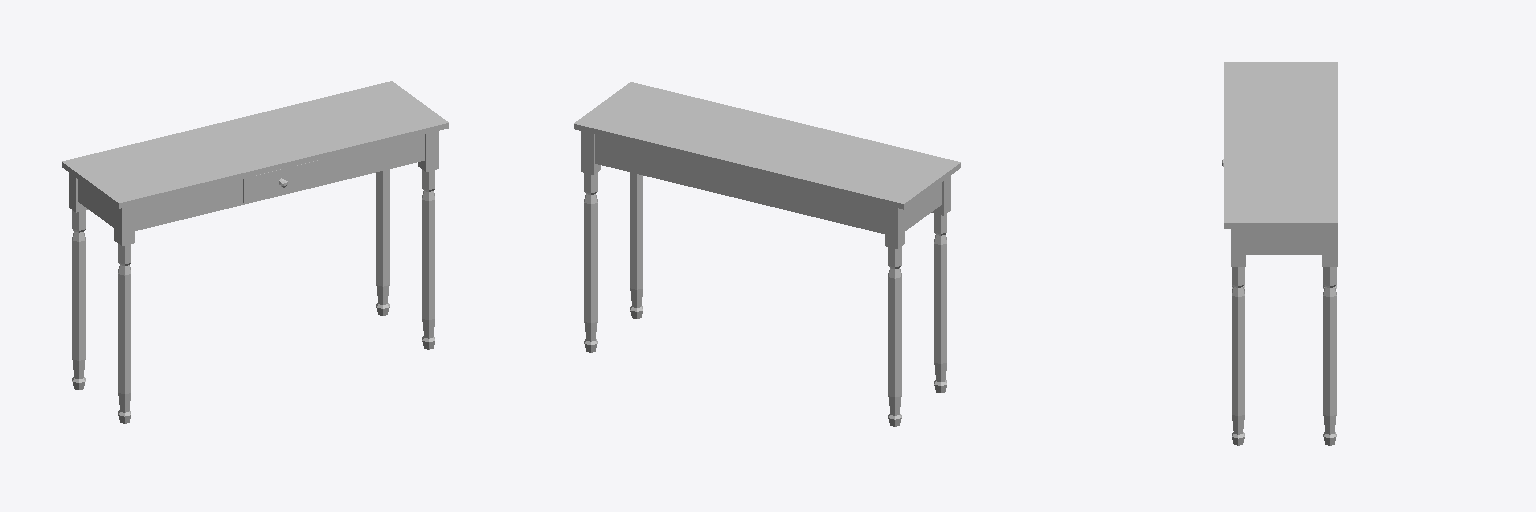
File: console_table.obj
3 views of the same model, side by side, from view 1: azimuth 30°, elevation 25°; view 2: azimuth 150°, elevation 25°; view 3: azimuth 270°, elevation 25° (orthographic).
Parts seen in each view (by area): view 1: countertop, base, leg_1, leg_2, leg_3, leg_4, drawer; view 2: countertop, base, leg_3, leg_4, leg_1, leg_2; view 3: countertop, leg_4, leg_2, base.
Boxes of the visible parts, x1=… form: countertop: x1=62, y1=81, x2=448, y2=208; base: x1=78, y1=134, x2=424, y2=230; leg_1: x1=114, y1=205, x2=134, y2=423; leg_2: x1=418, y1=131, x2=438, y2=349; leg_3: x1=69, y1=173, x2=88, y2=389; leg_4: x1=376, y1=169, x2=389, y2=315; drawer: x1=243, y1=160, x2=317, y2=202; countertop: x1=574, y1=82, x2=960, y2=209; base: x1=595, y1=135, x2=941, y2=233; leg_3: x1=885, y1=205, x2=904, y2=426; leg_4: x1=581, y1=131, x2=600, y2=352; leg_1: x1=931, y1=176, x2=950, y2=392; leg_2: x1=630, y1=172, x2=642, y2=318; countertop: x1=1224, y1=62, x2=1337, y2=228; leg_4: x1=1322, y1=229, x2=1337, y2=445; leg_2: x1=1231, y1=229, x2=1245, y2=445; base: x1=1246, y1=229, x2=1321, y2=254.
Bounding box in the file's own units: 49.21 × 32.28 × 15.06.